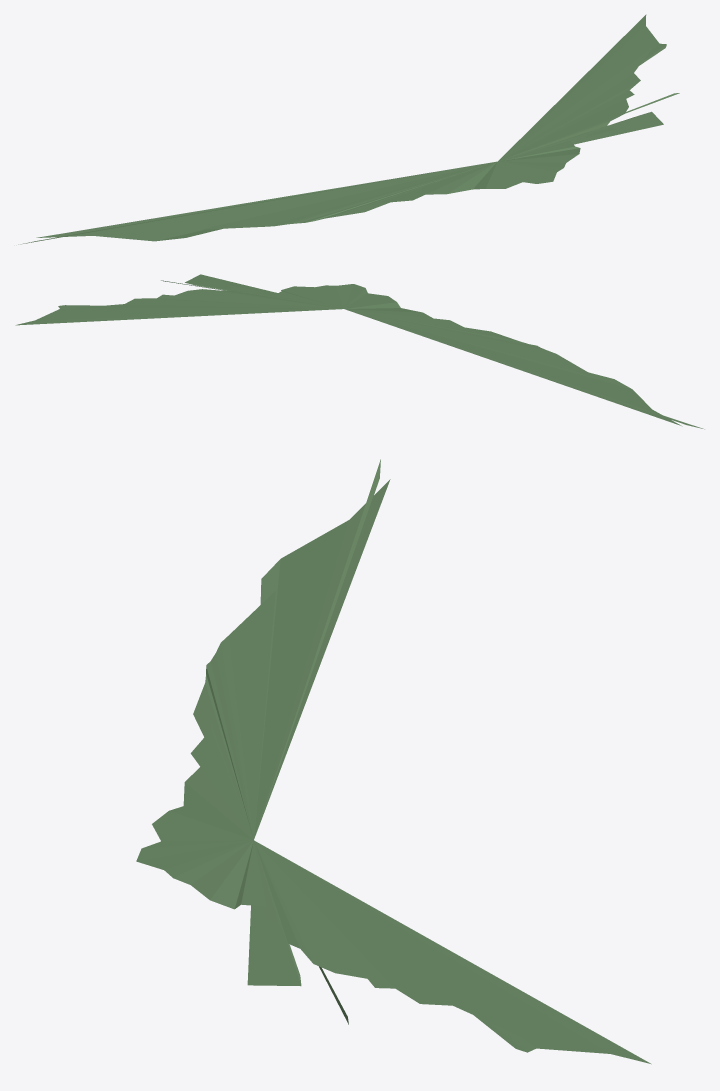
File: c_1629_17830_forest.glb
3 renders of one model, top to bottom at view 1: azimuth 30°, elevation 25°; view 2: azimuth 150°, elevation 25°; view 3: azimuth 270°, elevation 25°, orthographic. The views are drawn at different scales.
Visible parts, largest first — view 1: geometry_0; view 2: geometry_0; view 3: geometry_0.
Part boxes in pixels (x1,y1,x2,y2): geometry_0: (18, 14, 679, 244); geometry_0: (15, 274, 704, 429); geometry_0: (136, 459, 651, 1064).
Bounding box in the file's own units: 789 × 6.48 × 315.
